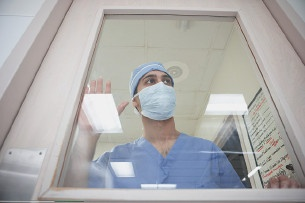Mask: (135, 72, 182, 119)
